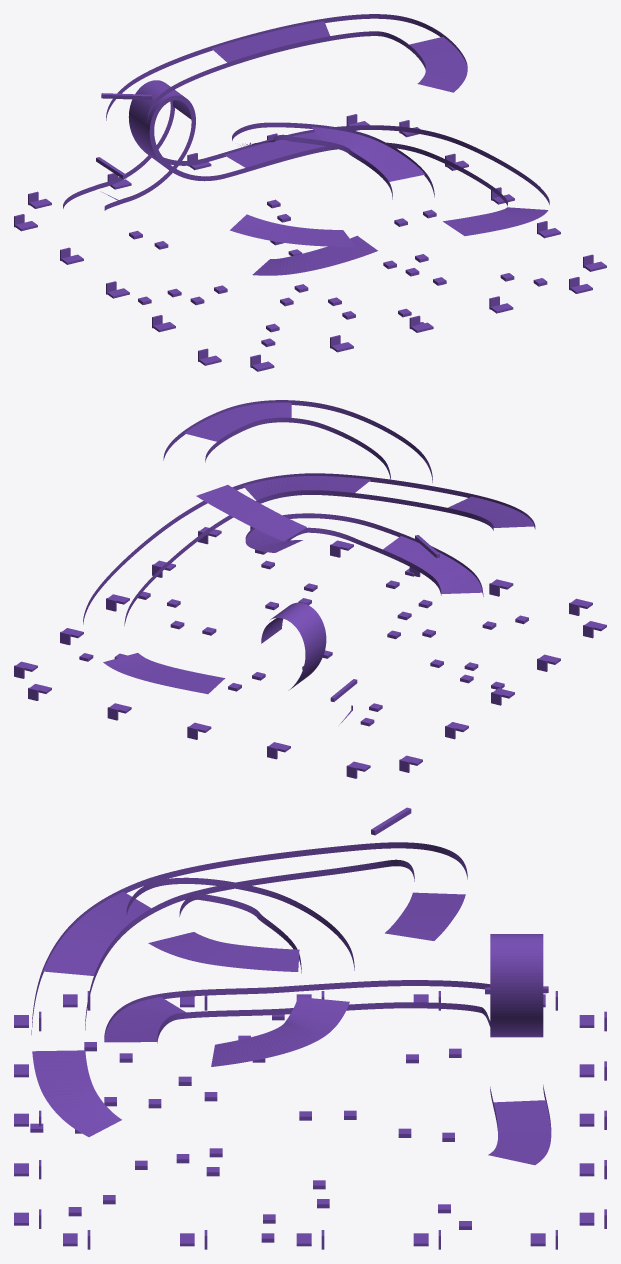
File: circuit-part-4.glb
3 views of the same model, one above another, from view 1: azimuth 30°, elevation 25°; view 2: azimuth 150°, elevation 25°; view 3: azimuth 270°, elevation 25° (orthographic). The views are drawn at different scales.
Visible parts, largest first — view 1: track-part-0; view 2: track-part-0; view 3: track-part-0.
Boxes of the visible parts, x1,y1,x2,y2 form: track-part-0: (14,14,606,371); track-part-0: (14,400,606,778); track-part-0: (14,807,606,1249).
Size of the model in its own units: 27.75 by 12.43 by 27.89.
